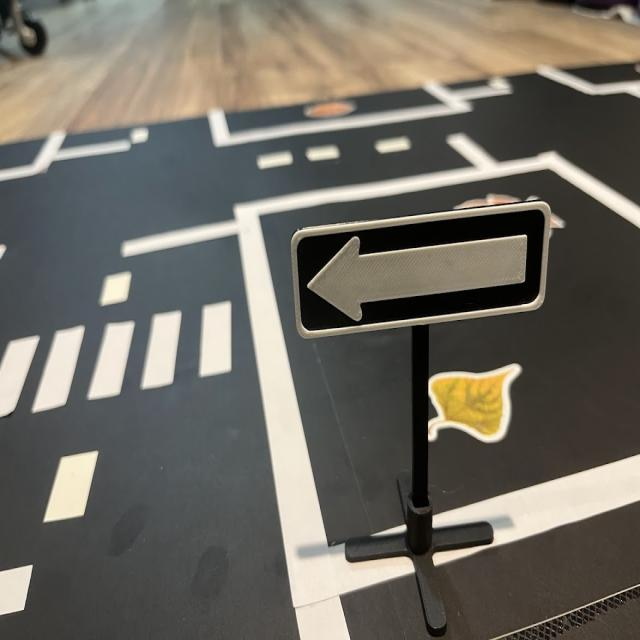road_crosswalk: (1, 290, 237, 423)
sign_oneway_left: (293, 196, 553, 342)
